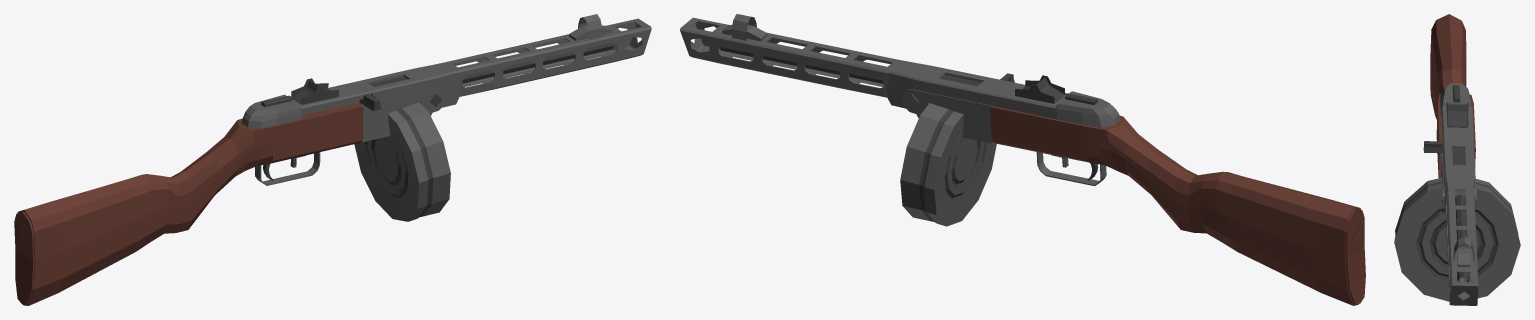
File: ppsh.gltf
The picture shows the model from 3 angles, left to right: view 1: azimuth 30°, elevation 25°; view 2: azimuth 150°, elevation 25°; view 3: azimuth 270°, elevation 25°; orthographic projection. The views are drawn at different scales.
Parts seen in each view (by area): view 1: Object_3; view 2: Object_3; view 3: Object_3.
Boxes of the visible parts, x1,y1,x2,y2 form: Object_3: (14, 14, 651, 305); Object_3: (680, 14, 1365, 305); Object_3: (1394, 14, 1520, 305).
Bounding box in the file's own units: 4.55 × 1.06 × 0.8081.
